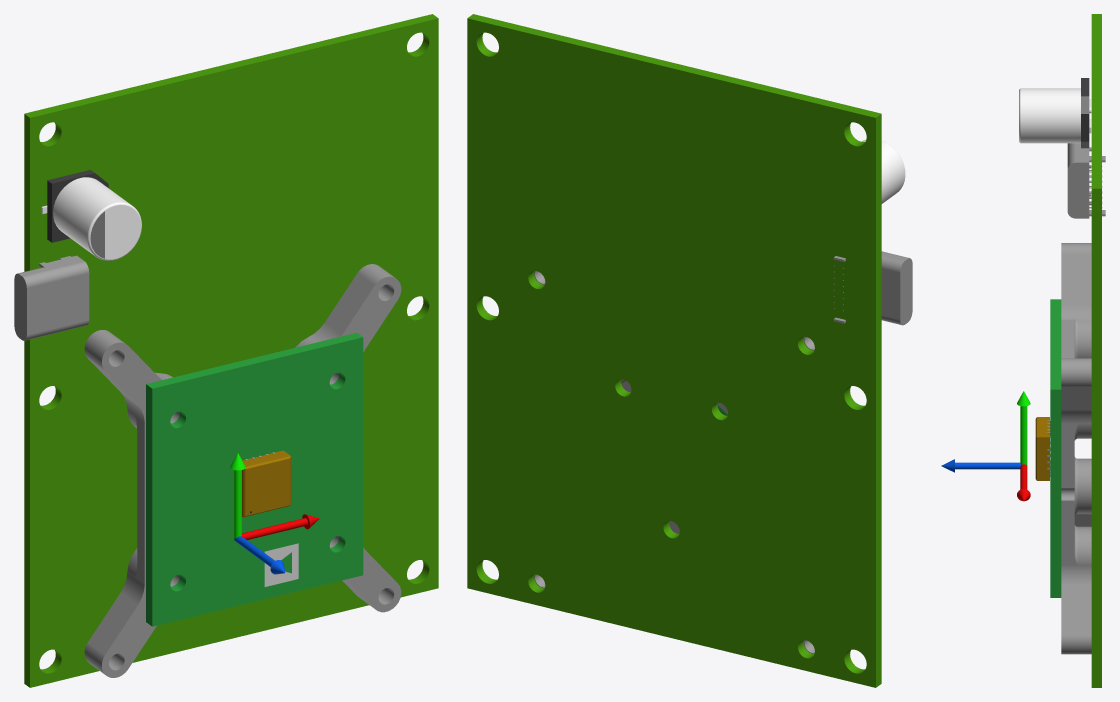
File: IMU_Platform_1660X.obj
3 views of the same model, side by side, from view 1: azimuth 30°, elevation 25°; view 2: azimuth 150°, elevation 25°; view 3: azimuth 270°, elevation 25° (orthographic). The views are drawn at different scales.
Visible parts, largest first — view 1: ボディ1:2, ボディ1:4, ボディ1:3, ボディ1:1, ボディ1, ボディ10, ボディ1:5; view 2: ボディ1:2, ボディ1, ボディ1:1, ボディ1:3; view 3: ボディ1:3, ボディ1:2, ボディ1:1, ボディ1:4, ボディ1, ボディ1:5, ボディ10.
Part boxes in pixels (x1,y1,x2,y2): ボディ1:2: [24, 14, 438, 687]; ボディ1:4: [146, 332, 363, 626]; ボディ1:3: [84, 264, 401, 677]; ボディ1:1: [41, 170, 141, 260]; ボディ1: [14, 255, 89, 340]; ボディ10: [242, 450, 290, 517]; ボディ1:5: [230, 453, 319, 574]; ボディ1:2: [467, 14, 881, 687]; ボディ1: [833, 251, 912, 325]; ボディ1:1: [861, 139, 905, 203]; ボディ1:3: [534, 271, 814, 653]; ボディ1:3: [1061, 243, 1091, 654]; ボディ1:2: [1091, 14, 1101, 687]; ボディ1:1: [1019, 78, 1091, 148]; ボディ1:4: [1050, 299, 1061, 597]; ボディ1: [1067, 143, 1105, 218]; ボディ1:5: [941, 391, 1030, 501]; ボディ10: [1035, 417, 1050, 480].
Bounding box in the file's own units: 6.25 × 8 × 2.39.
